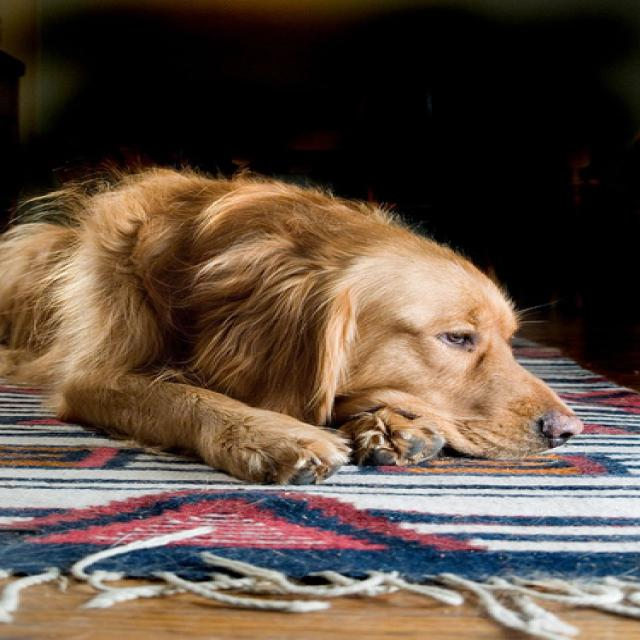dog: (1, 162, 585, 486)
